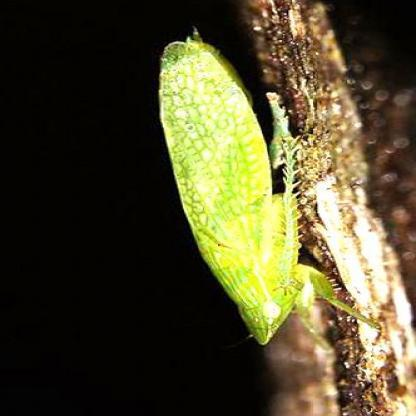green-leafhopper: (154, 37, 340, 340)
